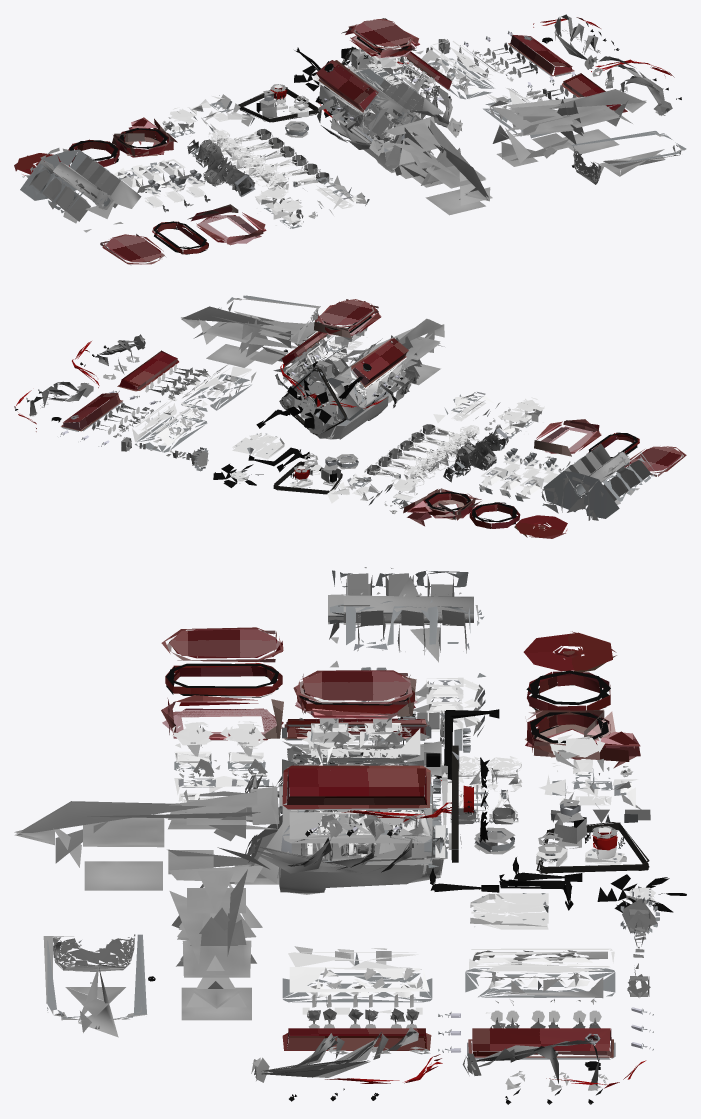
The model's file is eng-v6-35-na.glb.
3 renders of one model, top to bottom at view 1: azimuth 30°, elevation 25°; view 2: azimuth 150°, elevation 25°; view 3: azimuth 270°, elevation 25°, orthographic. The views are drawn at different scales.
Visible parts, largest first — view 1: p0; view 2: p0; view 3: p0.
Part boxes in pixels (x1,y1,x2,y2): p0: [14, 14, 686, 264]; p0: [14, 295, 686, 538]; p0: [14, 567, 686, 1104].
Size of the model in its own units: 3.32 by 0.6806 by 1.95.
14 materials, 13 textured.
